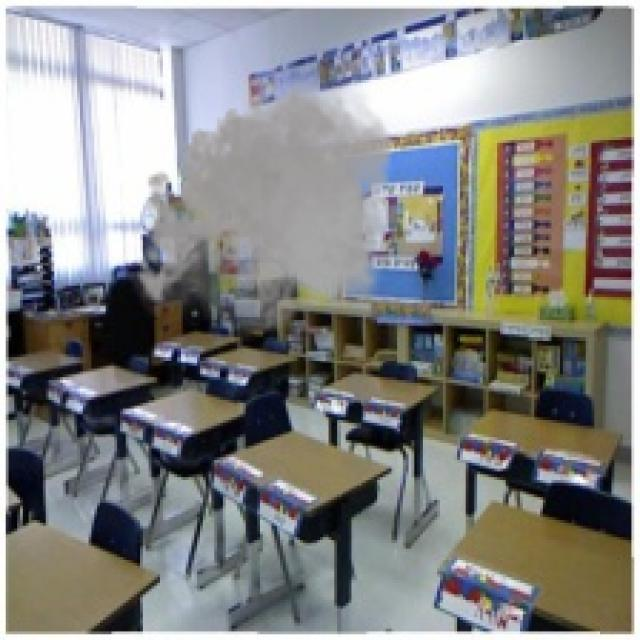smoke: (128, 72, 403, 348)
